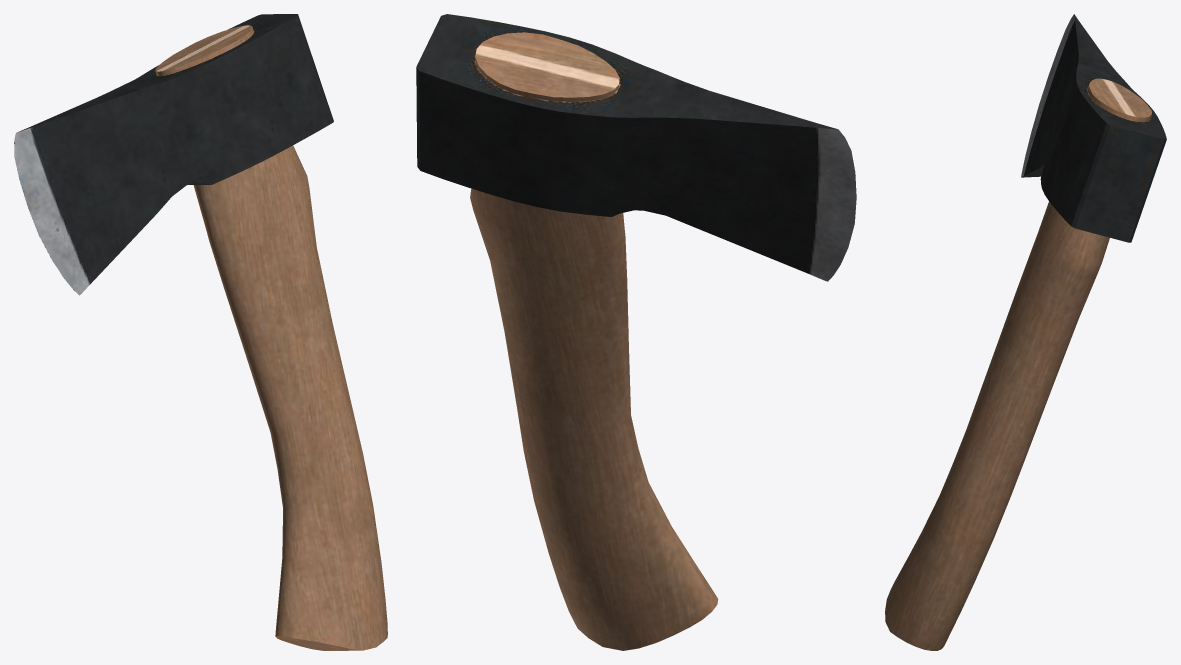
The model's file is hatchet.glb.
The picture shows the model from 3 angles, left to right: view 1: azimuth 30°, elevation 25°; view 2: azimuth 150°, elevation 25°; view 3: azimuth 270°, elevation 25°; orthographic projection. The views are drawn at different scales.
Visible parts, largest first — view 1: hatchet; view 2: hatchet; view 3: hatchet.
Part boxes in pixels (x1=…): hatchet: x1=14, y1=14, x2=387, y2=650; hatchet: x1=416, y1=14, x2=856, y2=650; hatchet: x1=885, y1=14, x2=1166, y2=650.
Size of the model in its own units: 0.2301 by 0.38 by 0.179.
1 material, 1 textured.
